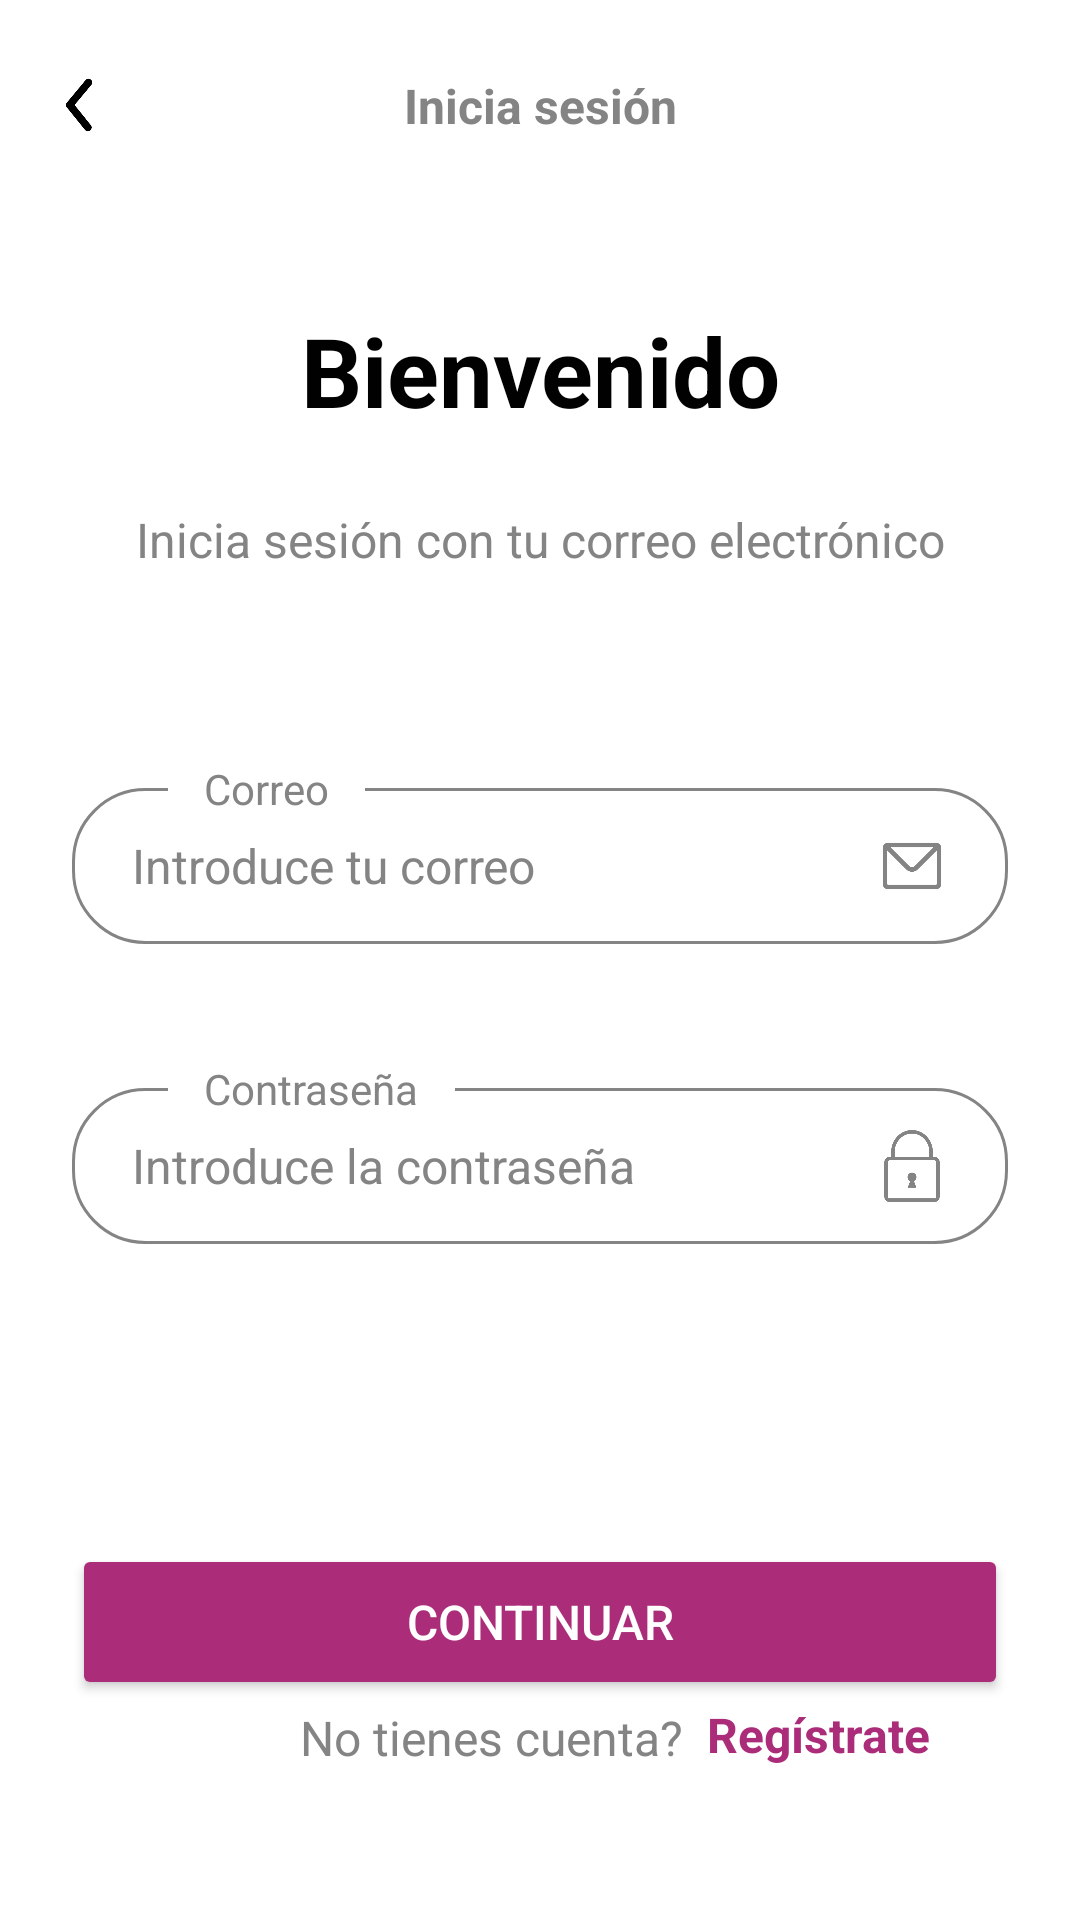

Icons on this 1080*1920 Android screen, each with the point to tap as point (x, y):
back: point (79, 105)
email: point (912, 866)
lock: point (912, 1166)
